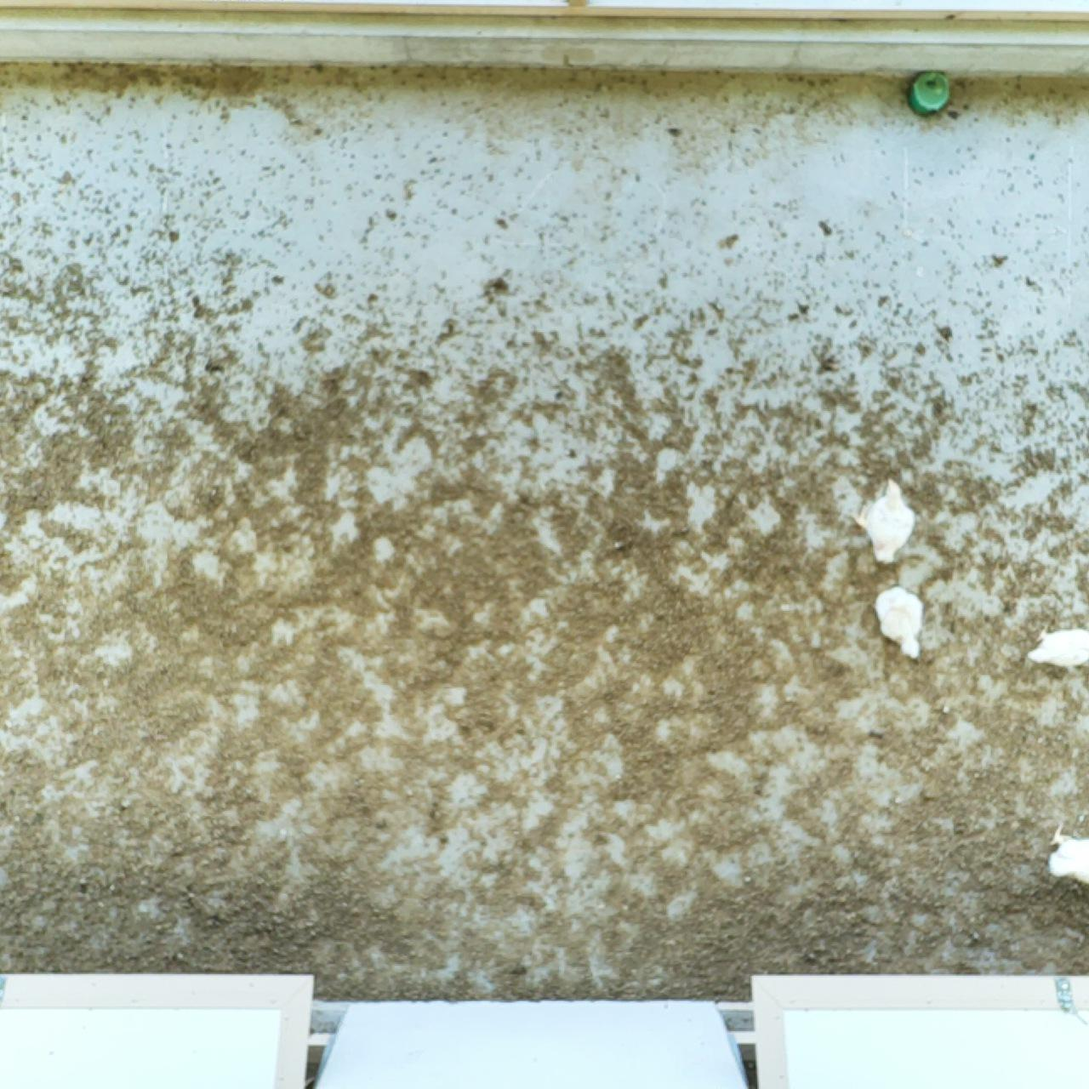chicken: (856, 471, 922, 564), (871, 579, 931, 666), (1024, 616, 1089, 679), (1043, 827, 1089, 893)
